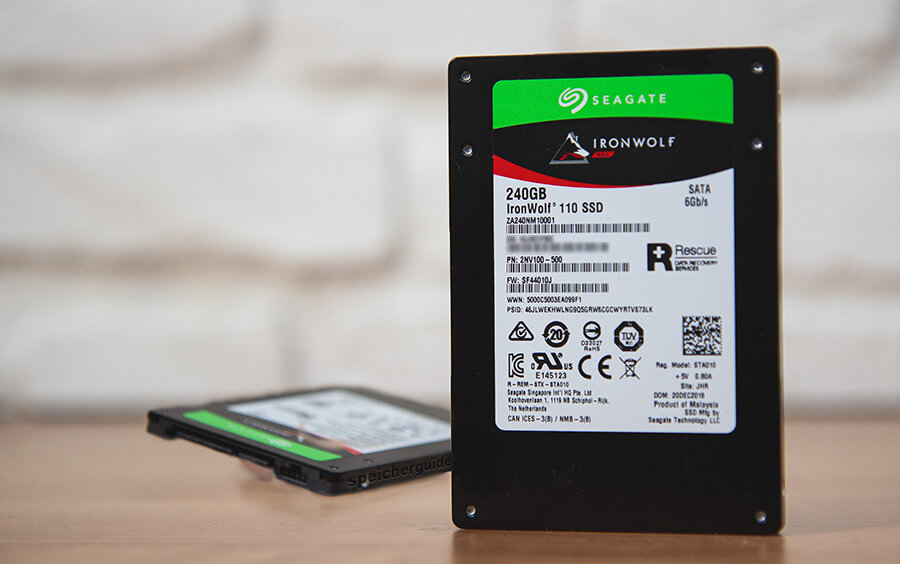seagate-hdd-240gb: (452, 48, 785, 536)
